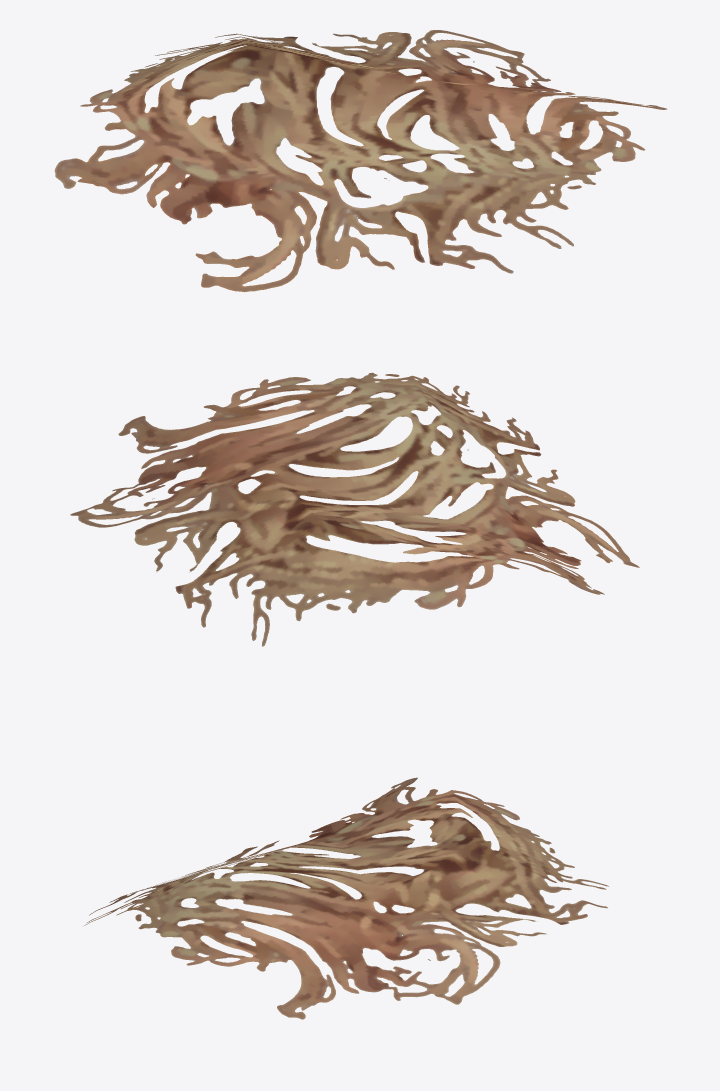
Rendered from lairKvar03.fbx.
3 views of the same model, one above another, from view 1: azimuth 30°, elevation 25°; view 2: azimuth 150°, elevation 25°; view 3: azimuth 270°, elevation 25° (orthographic). The views are drawn at different scales.
Visible parts, largest first — view 1: lairKvar03_LOD0; view 2: lairKvar03_LOD0; view 3: lairKvar03_LOD0.
Boxes of the visible parts, x1=… form: lairKvar03_LOD0: x1=54, y1=30, x2=667, y2=292; lairKvar03_LOD0: x1=70, y1=372, x2=639, y2=646; lairKvar03_LOD0: x1=84, y1=777, x2=608, y2=1019.
Size of what is drawn, in the model's own units: 0.7224 by 0.1151 by 0.7501.
